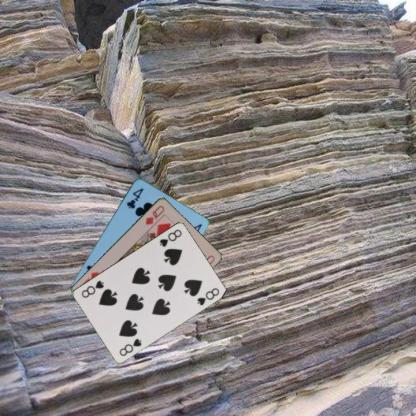4c: (124, 185, 145, 210)
8s: (157, 226, 183, 248), (116, 336, 142, 357)
Qd: (142, 203, 166, 226)
